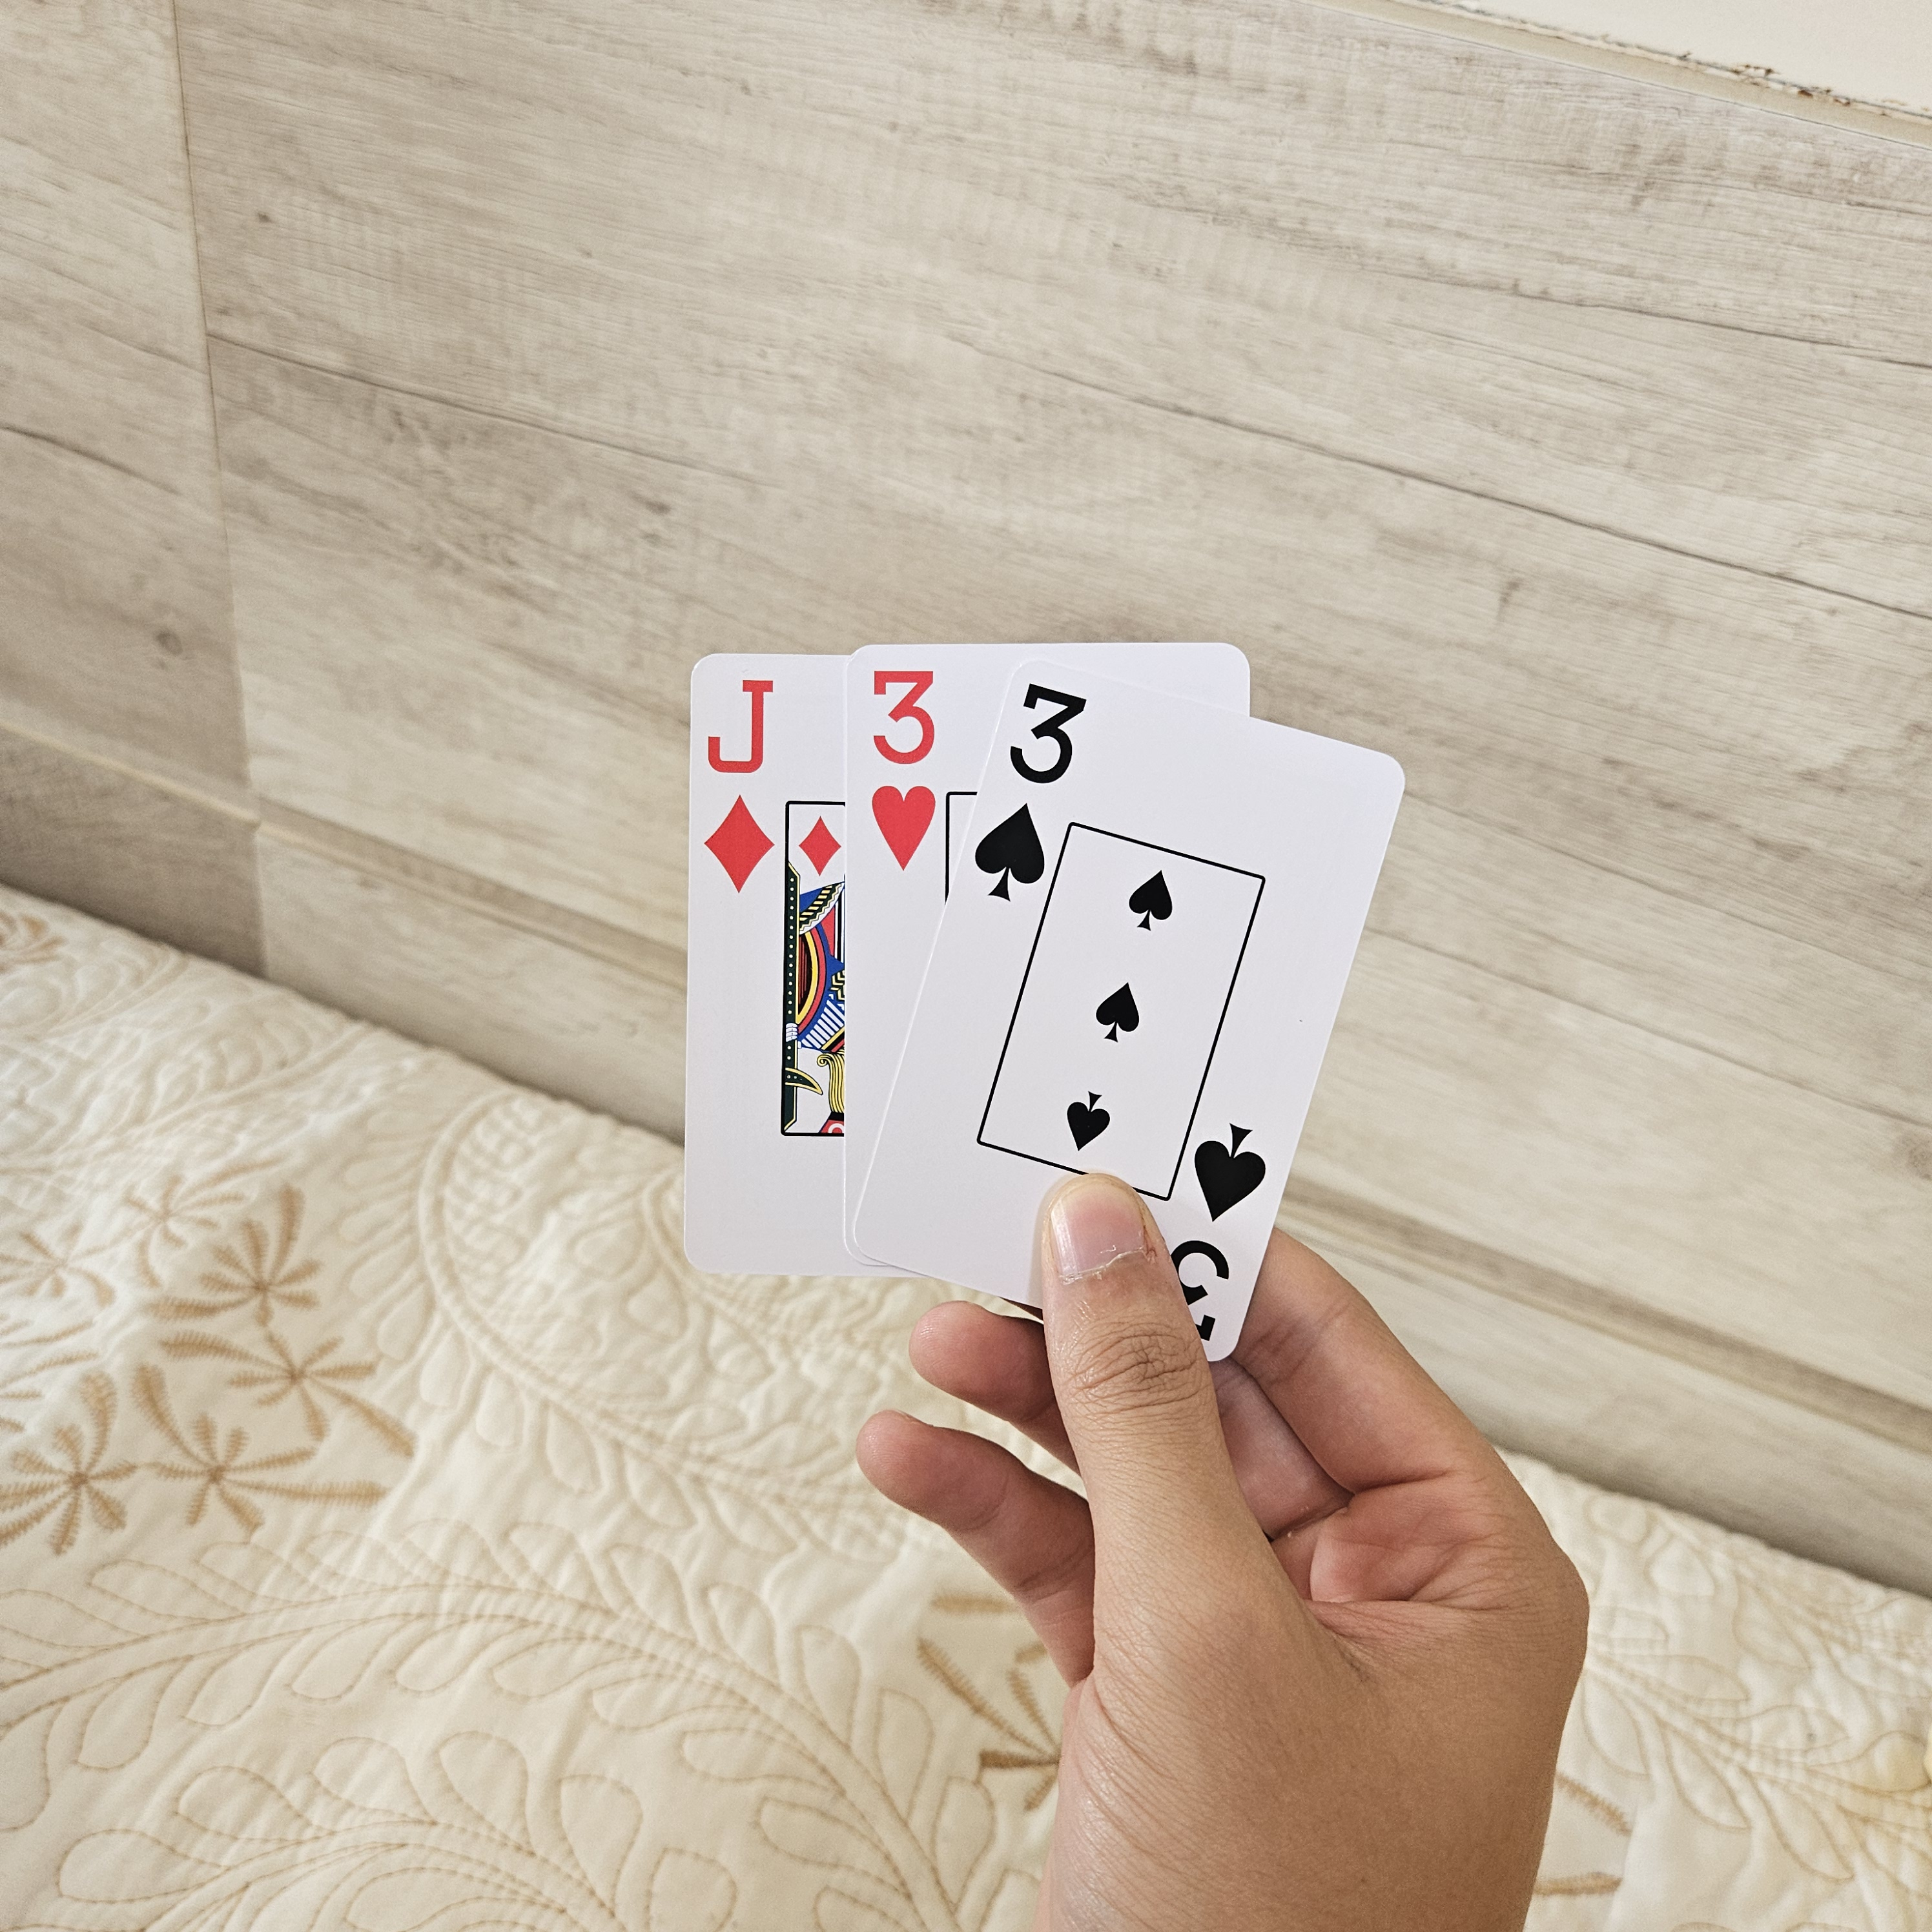3C: (855, 656, 952, 881)
3E: (966, 665, 1095, 920), (1166, 1108, 1292, 1346)
JO: (683, 658, 793, 897)
